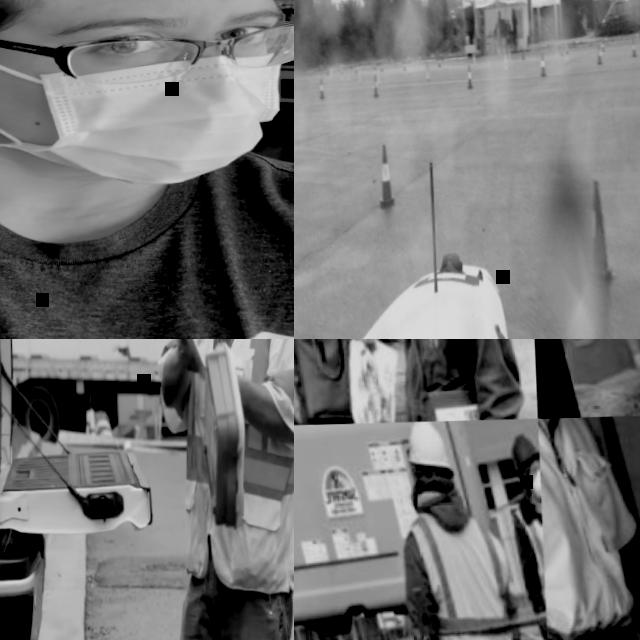Hardhat: (406, 417, 454, 475), (509, 432, 537, 473)
Mask: (0, 48, 294, 194), (529, 471, 539, 498)
NO-Safety Vest: (0, 136, 294, 339), (397, 339, 497, 417), (294, 339, 351, 426), (545, 339, 618, 379)
Person: (0, 0, 294, 339), (146, 339, 294, 640), (396, 415, 530, 640), (540, 410, 640, 640), (370, 339, 525, 419), (505, 429, 546, 640), (294, 339, 387, 427), (542, 339, 624, 389)
Safety Cone: (582, 177, 616, 287), (375, 142, 395, 207), (465, 63, 473, 88), (371, 75, 379, 97), (595, 43, 603, 64), (539, 53, 546, 76), (629, 35, 636, 57), (318, 78, 324, 99), (564, 40, 570, 61), (356, 66, 362, 84), (503, 53, 509, 70), (424, 61, 429, 80), (328, 63, 333, 79), (345, 65, 350, 80), (338, 65, 343, 79), (376, 68, 380, 84), (635, 28, 640, 40), (599, 39, 603, 53), (559, 42, 563, 56), (472, 52, 476, 66), (554, 44, 558, 57), (520, 47, 524, 60), (507, 49, 511, 62), (372, 62, 376, 75), (306, 68, 310, 81), (402, 59, 406, 71), (325, 63, 329, 75), (604, 32, 608, 43), (443, 57, 447, 68), (437, 56, 441, 67), (575, 37, 579, 47), (601, 39, 604, 51), (411, 59, 414, 71), (380, 60, 383, 71), (448, 50, 451, 59), (389, 56, 392, 64), (417, 52, 420, 60), (430, 52, 433, 59)
Safety Vest: (153, 339, 294, 594), (535, 414, 640, 640), (401, 508, 527, 640)
vehicle: (0, 339, 159, 640)
